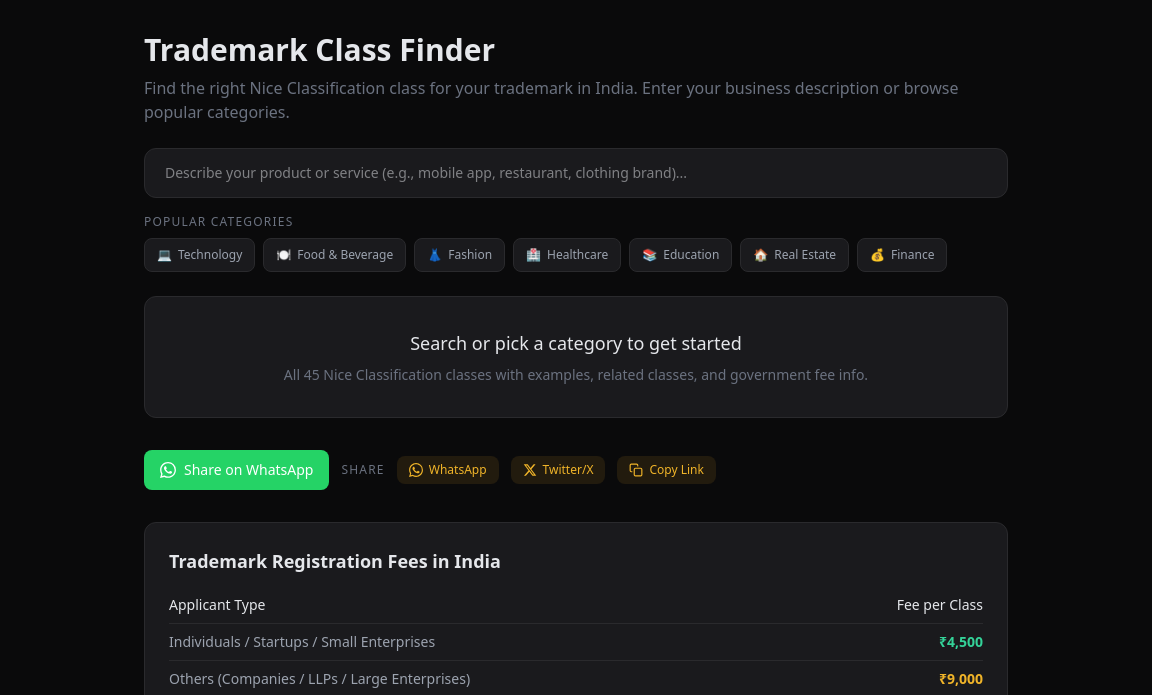
Test: TrademarkClassFinder › shows similar/related classes for each result
Click the button "🏥 Healthcare" at (567, 255), box [513, 238, 621, 272]
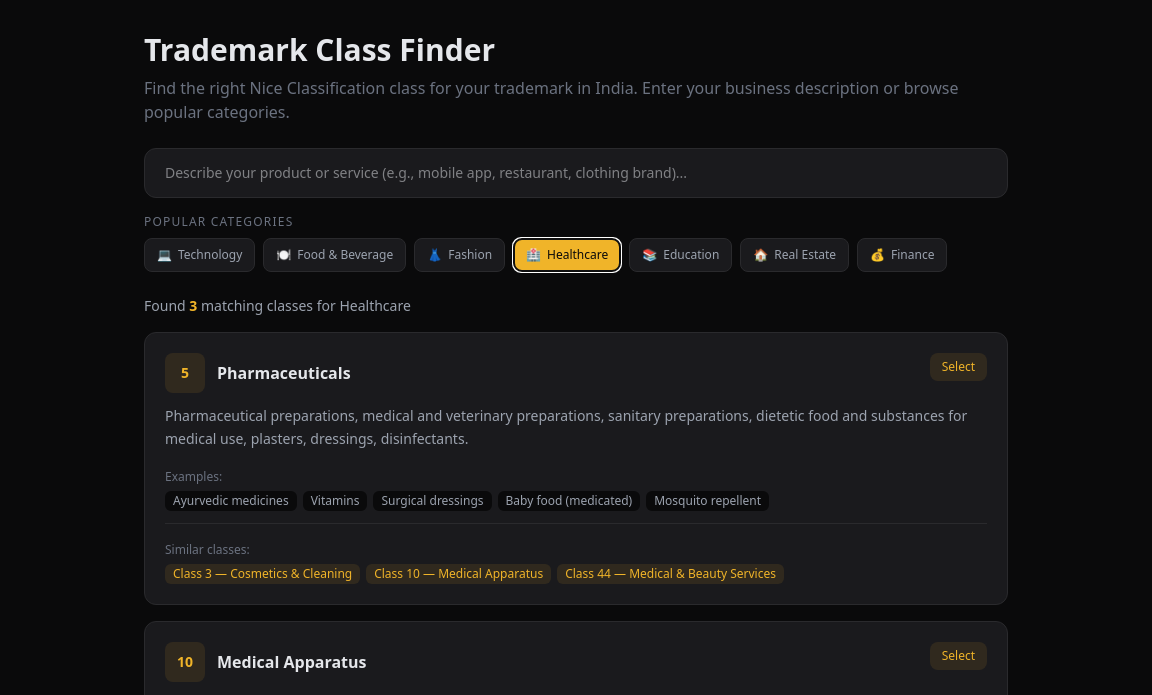
expect the text "Similar classes:" is shown: met, box [165, 540, 250, 558]
